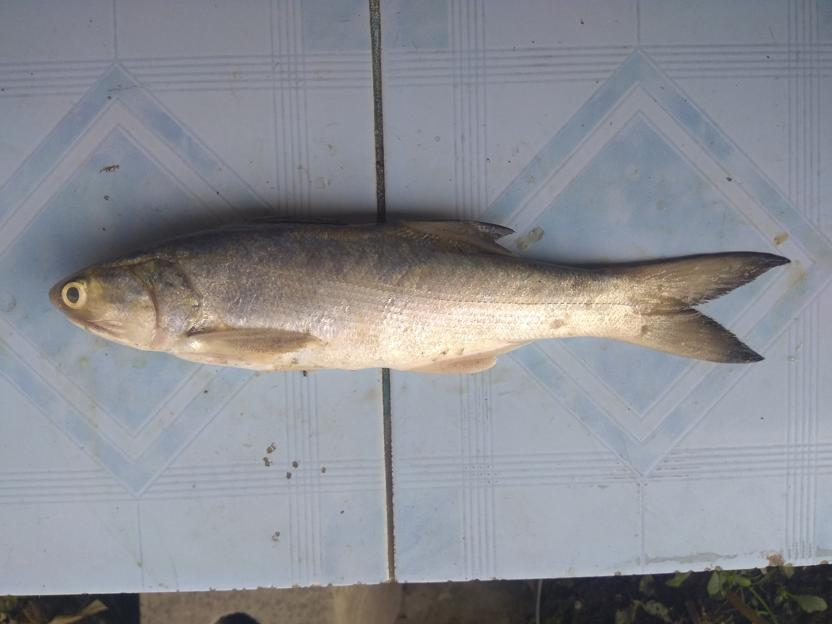Fish head: (47, 223, 203, 365)
Fish tail: (623, 250, 793, 366)
